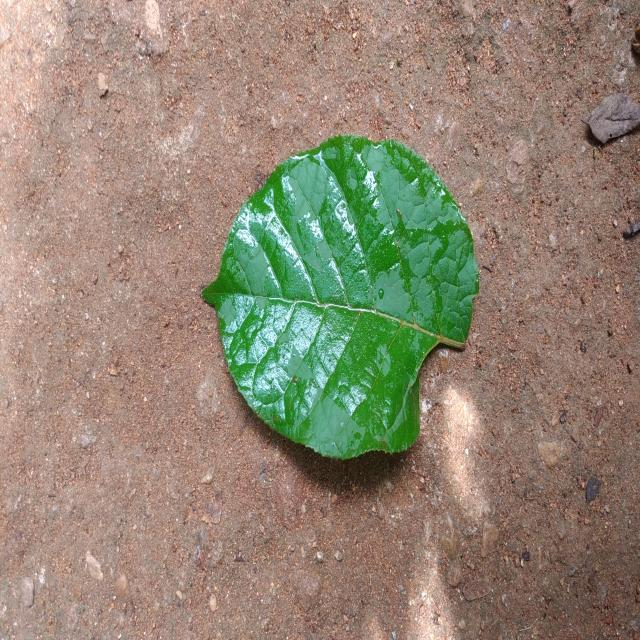padri: (204, 136, 479, 460)
